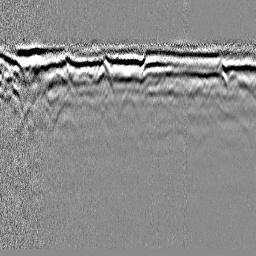cavity: (118, 88, 142, 126)
